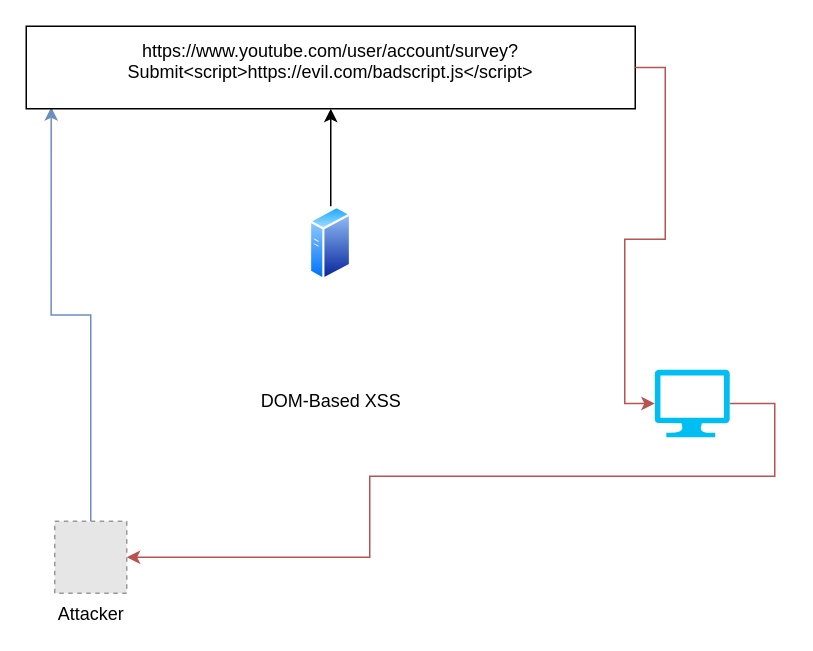
This 813x651 diagram has some shape labels left out. Grey dashed boxes stand in for pictures. Here are the shapes that lost their labels. From the top down, the centre of each, then its label:
At [330,243]: "Vulnerably web Application".
At [691,402]: "users".
